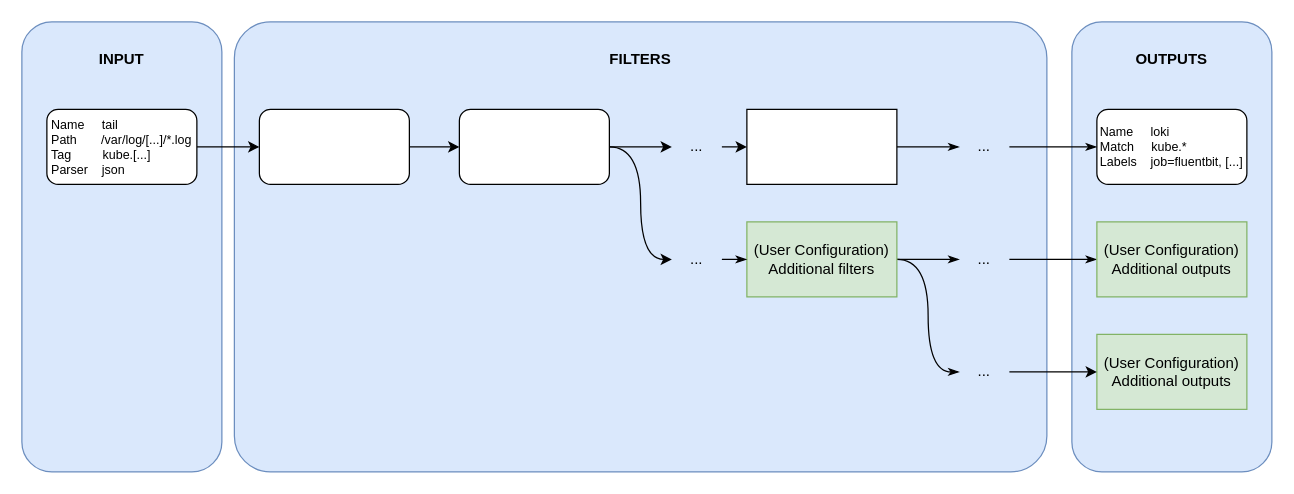
Some shapes in this 1294 by 494 pixel diagram are drawn without their labels. Here are the shapes that lost their labels. From the top down, the centre of each, then its label:
[333,146]: Name kubernetes Match kube.* Merge_Log On
[533,146]: Name rewrite_tag Match kube.* Rule [...]
[821,146]: (Optional) Additional Kyma specific filters
